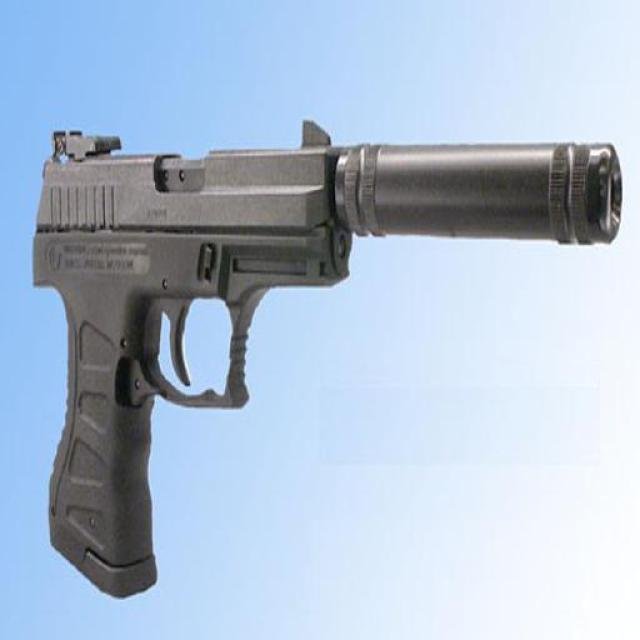pistol: (29, 116, 621, 598)
